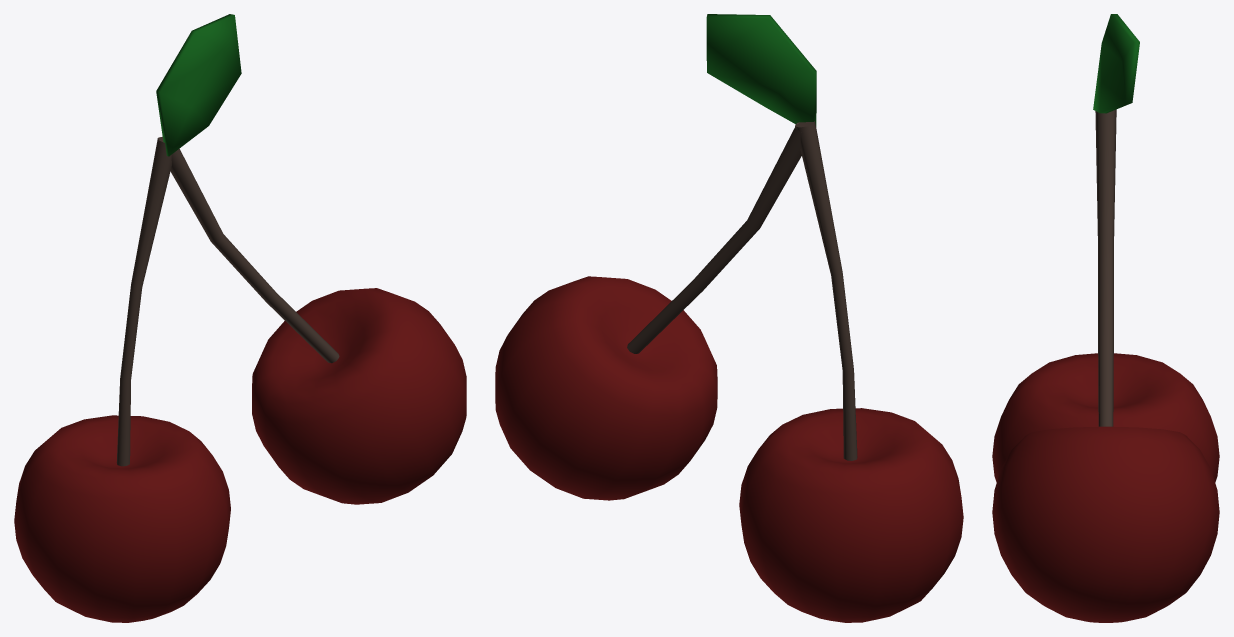
File: SM_Cherry.fbx
3 renders of one model, left to right at view 1: azimuth 30°, elevation 25°; view 2: azimuth 150°, elevation 25°; view 3: azimuth 270°, elevation 25°, orthographic. The views are drawn at different scales.
Parts seen in each view (by area): view 1: Cherry_Fruit_01, Cherry_Fruit_00, Cherry_Leave, Cherry_Stalk_01, Cherry_Stalk_00; view 2: Cherry_Fruit_01, Cherry_Fruit_00, Cherry_Leave, Cherry_Stalk_01, Cherry_Stalk_00; view 3: Cherry_Fruit_01, Cherry_Fruit_00, Cherry_Stalk_00, Cherry_Leave.
Boxes of the visible parts, bbox=[...] form: Cherry_Fruit_01: bbox=[252, 288, 466, 504]; Cherry_Fruit_00: bbox=[14, 415, 230, 622]; Cherry_Leave: bbox=[156, 14, 241, 156]; Cherry_Stalk_01: bbox=[116, 136, 171, 466]; Cherry_Stalk_00: bbox=[170, 149, 339, 363]; Cherry_Fruit_01: bbox=[495, 276, 717, 500]; Cherry_Fruit_00: bbox=[739, 408, 963, 622]; Cherry_Leave: bbox=[706, 14, 816, 126]; Cherry_Stalk_01: bbox=[795, 121, 857, 460]; Cherry_Stalk_00: bbox=[627, 122, 801, 353]; Cherry_Fruit_01: bbox=[992, 426, 1219, 622]; Cherry_Fruit_00: bbox=[992, 353, 1219, 482]; Cherry_Stalk_00: bbox=[1095, 109, 1116, 426]; Cherry_Leave: bbox=[1093, 14, 1139, 113].
Bounding box in the file's own units: 75.21 × 94.22 × 33.44.
